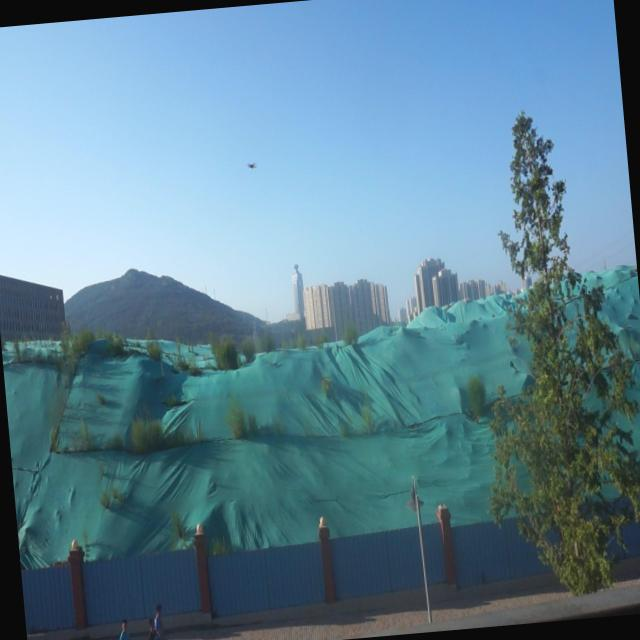drone: (243, 156, 259, 174)
